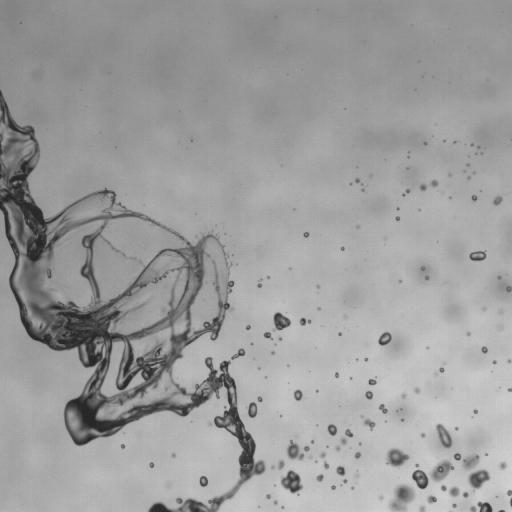droplet: (412, 459, 453, 489), (388, 483, 415, 511), (280, 470, 302, 494), (385, 448, 409, 468), (272, 312, 290, 331), (286, 441, 304, 460), (440, 485, 459, 497), (469, 251, 486, 261), (378, 332, 391, 345), (247, 402, 257, 418), (363, 418, 375, 429), (293, 389, 302, 400), (327, 424, 336, 435), (493, 196, 502, 205), (336, 466, 345, 475), (199, 476, 207, 486), (300, 318, 311, 325), (379, 404, 387, 413), (427, 495, 436, 503), (345, 429, 353, 437), (365, 390, 372, 399), (430, 180, 438, 187), (264, 332, 272, 339), (368, 378, 376, 385), (340, 437, 347, 445), (499, 461, 506, 469), (278, 460, 284, 469), (419, 184, 426, 191), (316, 474, 323, 481), (481, 346, 487, 353), (354, 452, 361, 458), (414, 387, 420, 393), (319, 452, 325, 458), (257, 279, 261, 287), (303, 232, 309, 237), (506, 286, 511, 292), (335, 445, 341, 450), (324, 462, 329, 468), (462, 492, 468, 497), (419, 506, 425, 511), (245, 325, 250, 330), (439, 367, 444, 372), (401, 393, 406, 398), (257, 396, 262, 401), (304, 446, 309, 451), (149, 462, 154, 467), (472, 195, 476, 201), (421, 432, 425, 437), (379, 495, 383, 500), (355, 178, 359, 182), (395, 216, 399, 220), (425, 275, 429, 279), (507, 359, 511, 363), (473, 409, 477, 413), (343, 479, 347, 483), (331, 485, 335, 489), (266, 494, 270, 498), (273, 500, 277, 504), (452, 503, 456, 507), (421, 266, 424, 270), (114, 271, 117, 275), (278, 337, 282, 340), (270, 351, 274, 354), (335, 373, 338, 377), (508, 387, 511, 391), (121, 444, 124, 448), (356, 472, 359, 476), (341, 247, 344, 250), (467, 332, 470, 335), (493, 360, 496, 363), (455, 427, 458, 430), (311, 440, 314, 443), (172, 454, 175, 457), (424, 142, 427, 144), (467, 177, 470, 179), (498, 276, 500, 279), (318, 307, 320, 310), (315, 390, 318, 392), (401, 418, 403, 421), (271, 466, 274, 468), (467, 163, 469, 165), (449, 173, 451, 175), (267, 276, 269, 278), (211, 295, 213, 297), (483, 308, 485, 310)
ligament: (0, 90, 265, 511), (453, 453, 490, 493), (436, 423, 452, 448), (470, 501, 493, 511), (507, 490, 511, 506), (403, 189, 410, 195), (498, 509, 504, 511)
